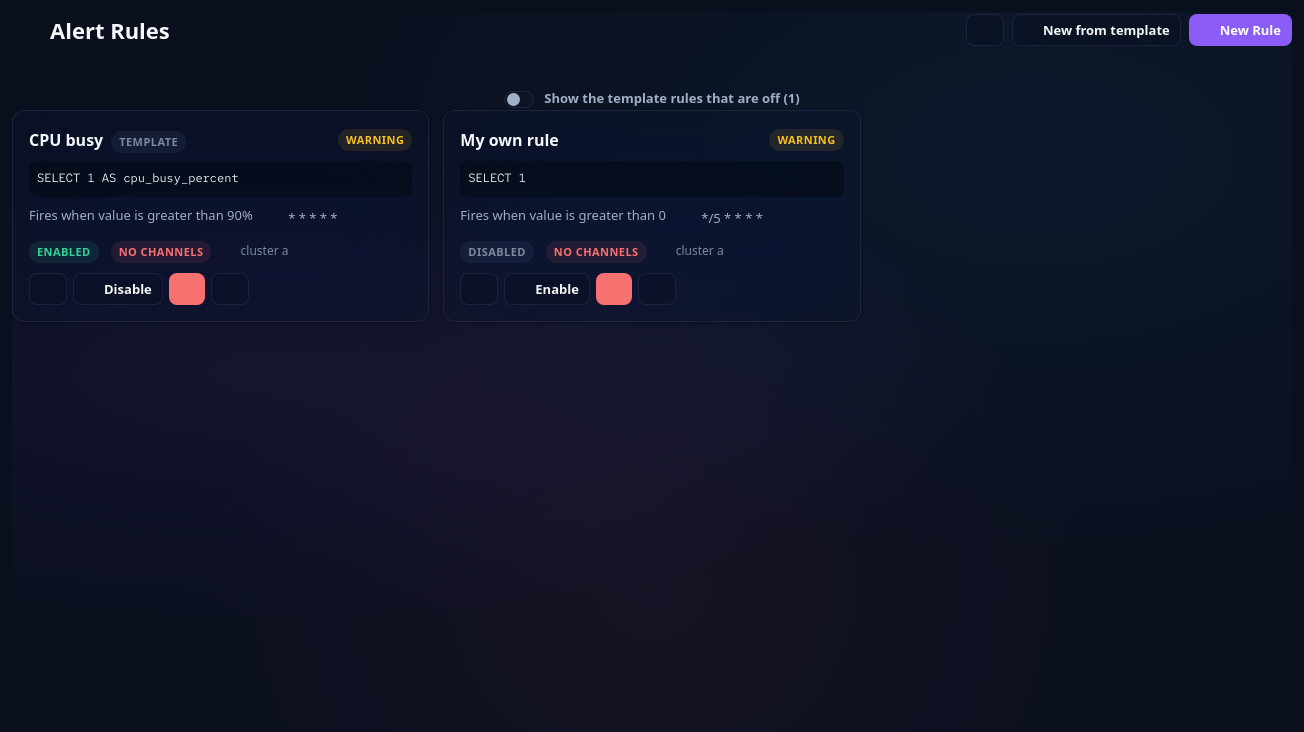
Test: Alert Rules: templates › hides the template rules that are off, and shows them with the switch
This screenshot has width=1304, height=732.
Expected: the text "My own rule" is shown, [460,127,559,153]
Expected: the text "CPU busy" is shown, [29,129,103,151]
Click the checkbox at x=511, y=98, box [504,90,518,104]
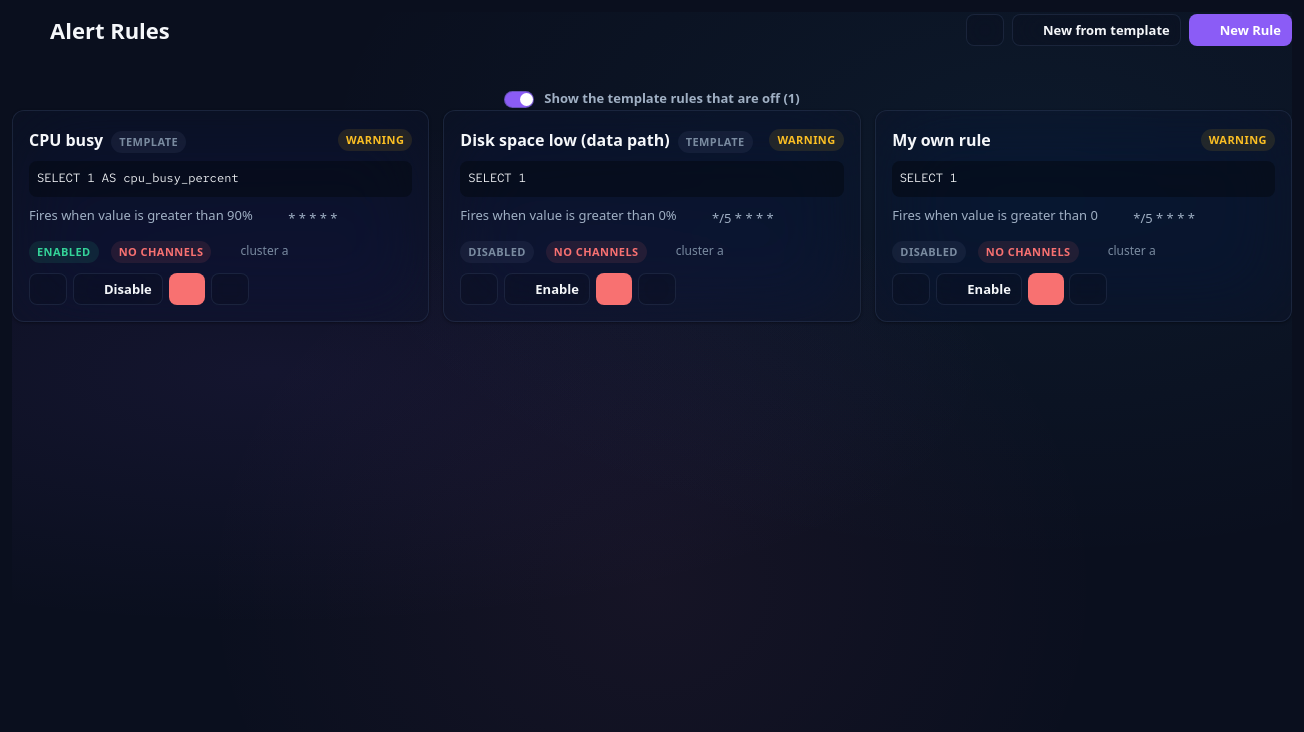
Expected: the text "Disk space low (data path)" is shown, [460,129,670,151]
Expected: the text "template" is shown 2 times, [111,131,186,153]; [678,131,752,153]
